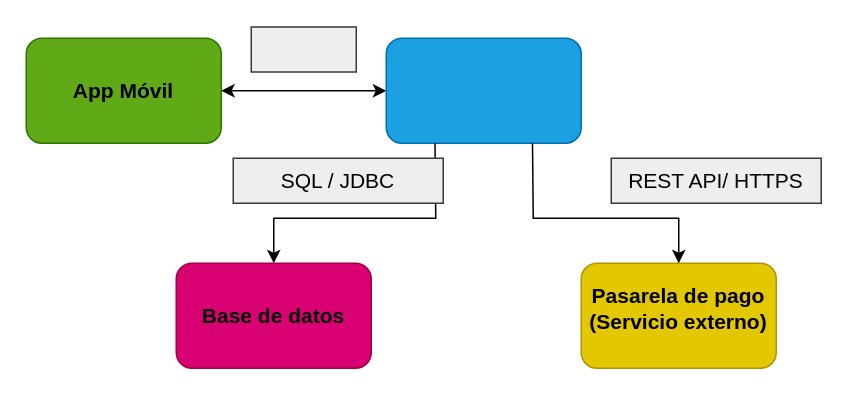
Image size: 848x395. Some labels were removed from this diagram. Each missing label, with the box of its shape:
REST API: (250, 26, 356, 72)
Servidor de Aplicación (Backend con lógica): (385, 37, 581, 143)
